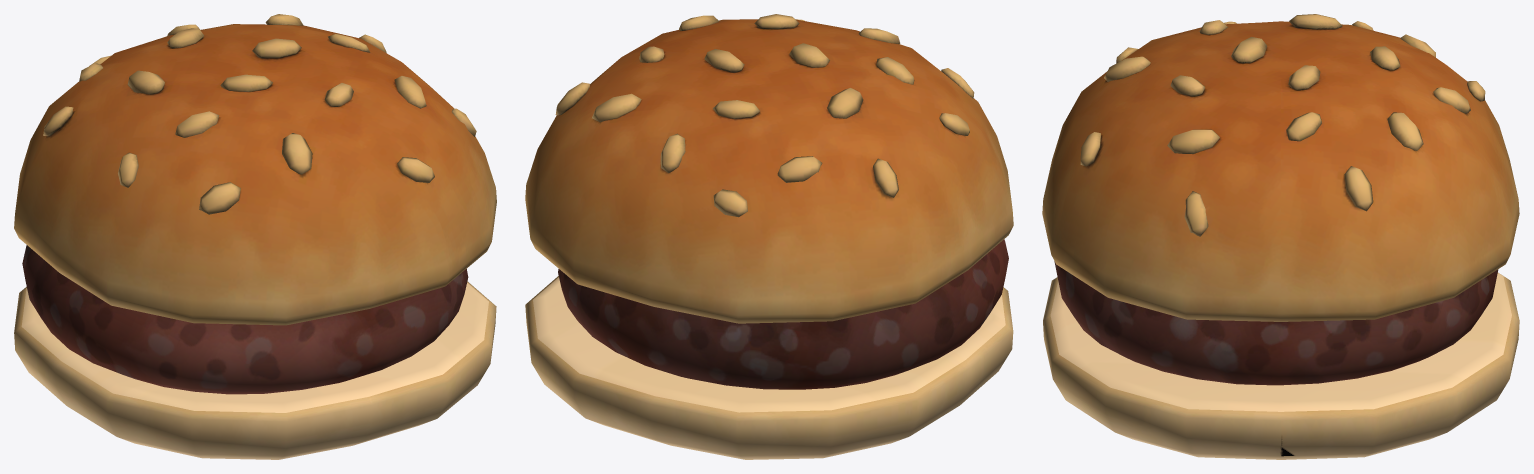
The model's file is m_recipe_plainburger_01.fbx.
3 renders of one model, left to right at view 1: azimuth 30°, elevation 25°; view 2: azimuth 150°, elevation 25°; view 3: azimuth 270°, elevation 25°, orthographic. The views are drawn at different scales.
Parts seen in each view (by area): view 1: m_recipe_plainburger_01_0, m_recipe_plainburger_01_1; view 2: m_recipe_plainburger_01_0, m_recipe_plainburger_01_1; view 3: m_recipe_plainburger_01_0, m_recipe_plainburger_01_1.
Boxes of the visible parts, left/top/right/bottom form: m_recipe_plainburger_01_0: left=14, top=14, right=496, bottom=459; m_recipe_plainburger_01_1: left=22, top=245, right=468, bottom=394; m_recipe_plainburger_01_0: left=525, top=14, right=1013, bottom=459; m_recipe_plainburger_01_1: left=558, top=239, right=1008, bottom=389; m_recipe_plainburger_01_0: left=1042, top=14, right=1519, bottom=459; m_recipe_plainburger_01_1: left=1054, top=261, right=1498, bottom=385.
Bounding box in the file's own units: 0.6189 × 0.4658 × 0.6244.
